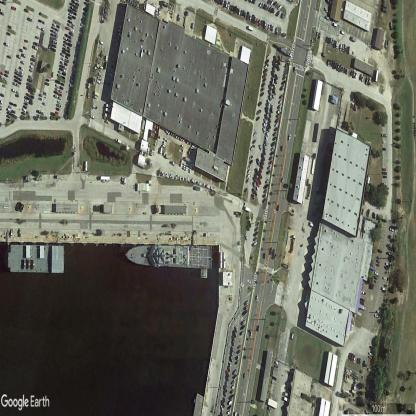ship: (125, 244, 212, 268)
